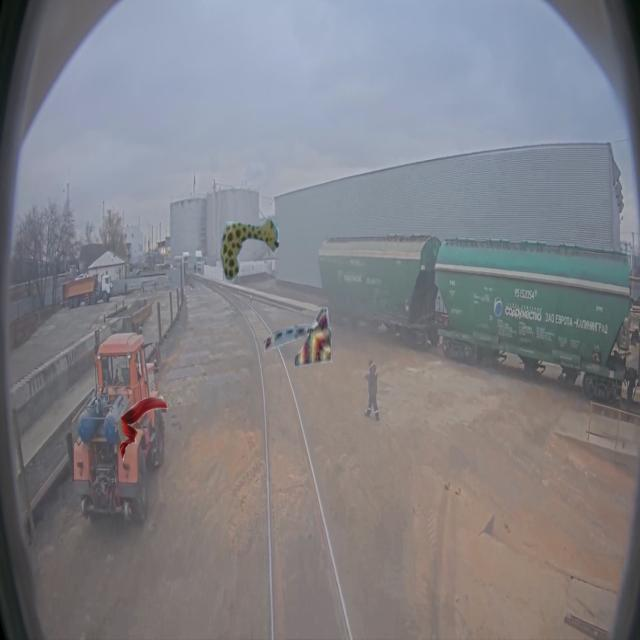floating object: (264, 304, 336, 368), (219, 217, 279, 280), (119, 396, 169, 461)
